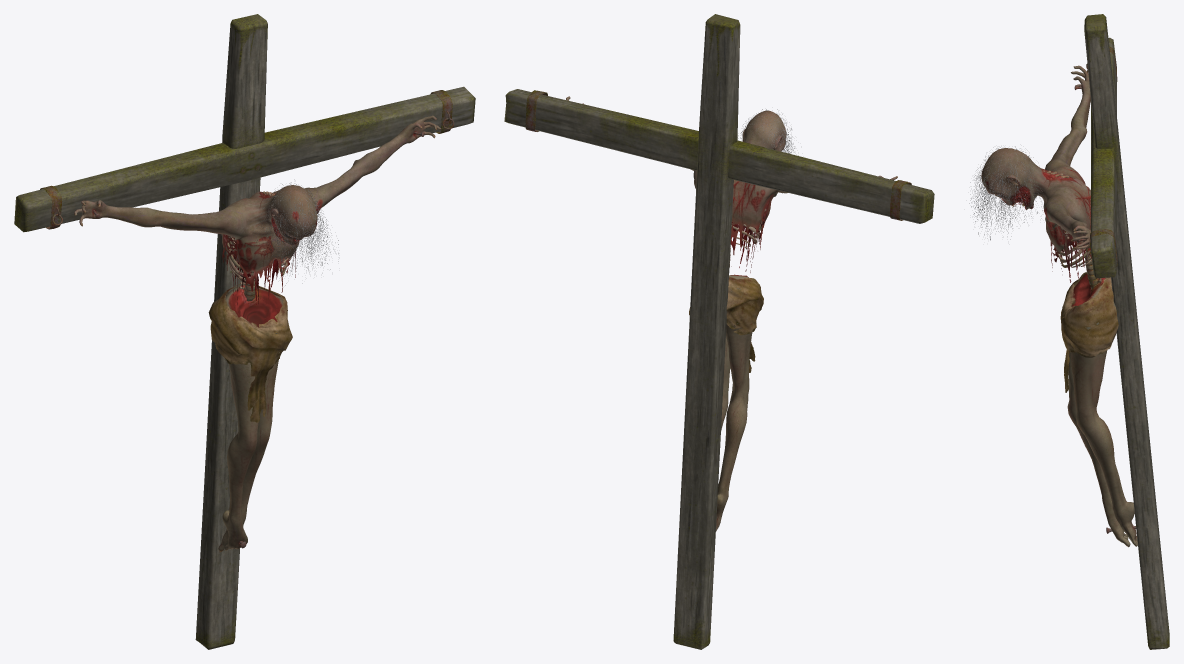
3 views of the same model, side by side, from view 1: azimuth 30°, elevation 25°; view 2: azimuth 150°, elevation 25°; view 3: azimuth 270°, elevation 25° (orthographic). The views are drawn at different scales.
Visible parts, largest first — view 1: g gpolySurface123_polySurface123, g Crucifixion_2_gpolySurface122_polySurface122, g Crucifixion_2_ginitialShadingGrouppolySurface122_initialSh, g Group15224; view 2: g gpolySurface123_polySurface123, g Crucifixion_2_gpolySurface122_polySurface122, g Crucifixion_2_ginitialShadingGrouppolySurface122_initialSh; view 3: g gpolySurface123_polySurface123, g Crucifixion_2_gpolySurface122_polySurface122, g Crucifixion_2_ginitialShadingGrouppolySurface122_initialSh, g Group15224.
Part boxes in pixels (x1=…): g gpolySurface123_polySurface123: x1=14, y1=14, x2=475, y2=649; g Crucifixion_2_gpolySurface122_polySurface122: x1=74, y1=123, x2=416, y2=552; g Crucifixion_2_ginitialShadingGrouppolySurface122_initialSh: x1=208, y1=115, x2=441, y2=422; g Group15224: x1=256, y1=179, x2=338, y2=285; g gpolySurface123_polySurface123: x1=504, y1=14, x2=934, y2=649; g Crucifixion_2_gpolySurface122_polySurface122: x1=691, y1=110, x2=897, y2=531; g Crucifixion_2_ginitialShadingGrouppolySurface122_initialSh: x1=566, y1=96, x2=763, y2=372; g gpolySurface123_polySurface123: x1=1074, y1=14, x2=1169, y2=649; g Crucifixion_2_gpolySurface122_polySurface122: x1=981, y1=65, x2=1137, y2=547; g Crucifixion_2_ginitialShadingGrouppolySurface122_initialSh: x1=995, y1=190, x2=1118, y2=393; g Group15224: x1=969, y1=146, x2=1048, y2=240.
Size of the model in its own units: 292 by 400 by 120.
